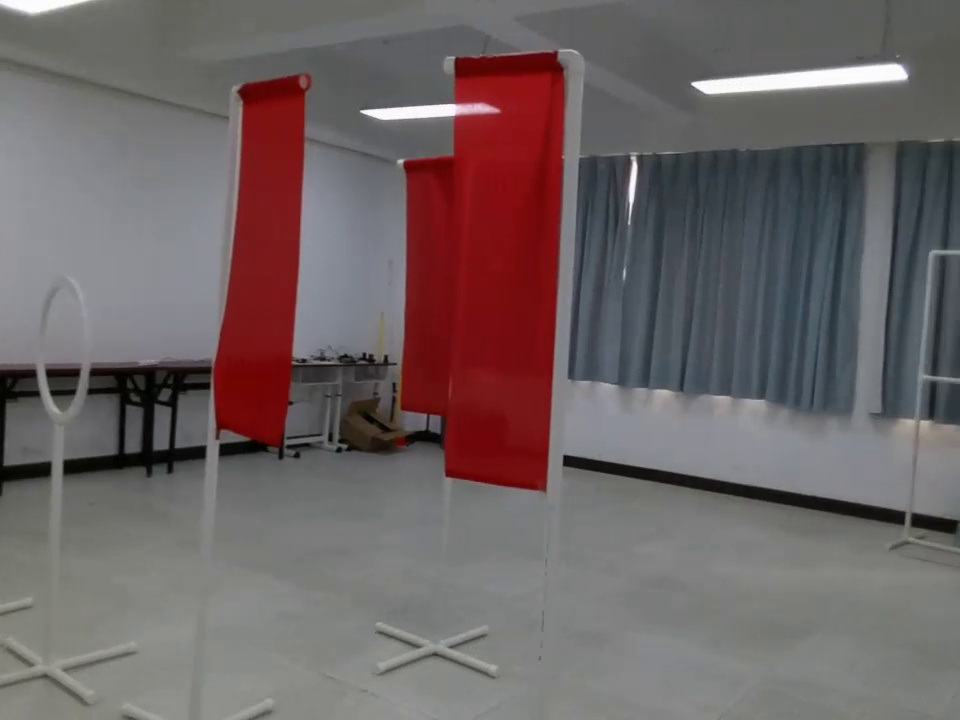qi: (435, 50, 571, 503), (209, 73, 312, 481)
